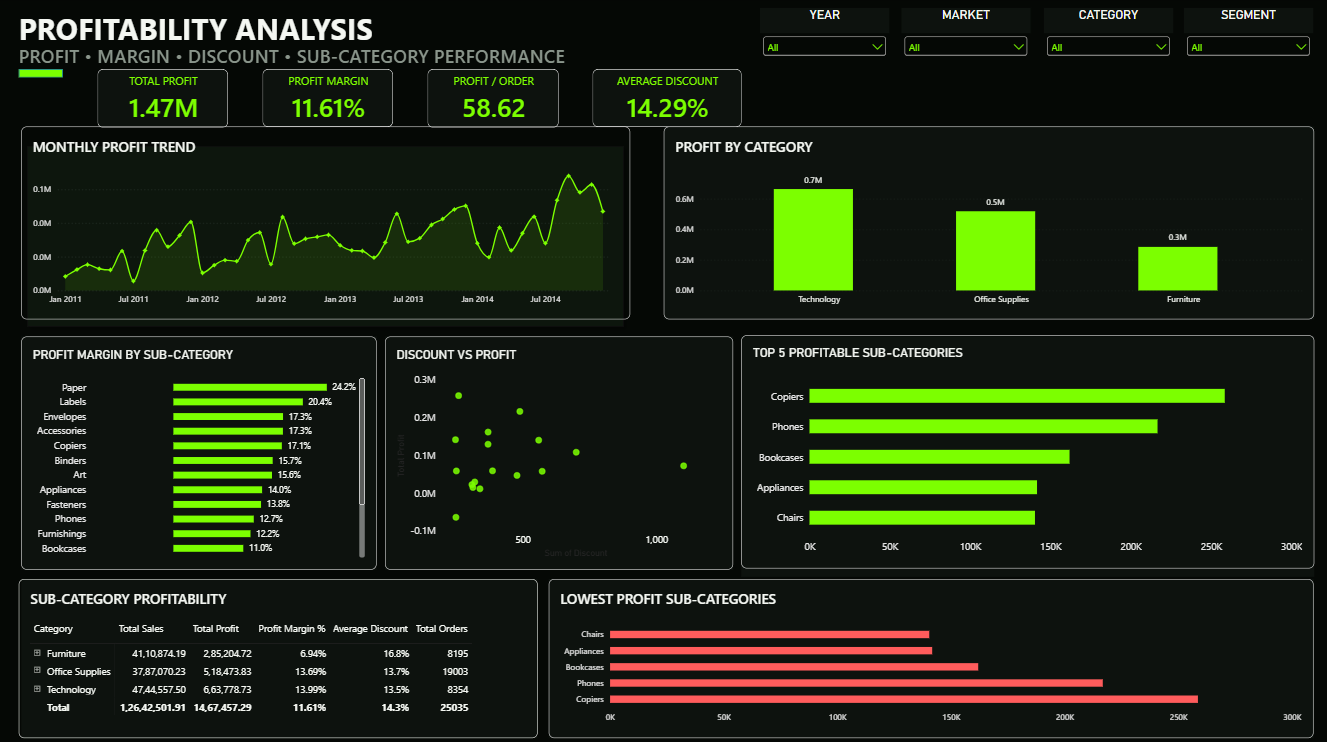

The dashboard page shown, as its layout file describes it:
{"tool":"powerbi","page":{"name":"03 Profitability","canvas":[1920,1080],"ordinal":2},"visuals":[{"type":"shape","box":[794.5,839.8,1107.4,230.5],"z":0},{"type":"shape","box":[1072.4,487.8,829.5,347.9],"z":1000},{"type":"shape","box":[557.8,487.8,504.3,337.6],"z":2000},{"type":"textbox","box":[26.8,63.8,1130,49.4],"z":4000},{"type":"shape","box":[26.8,100.9,63.8,12.3],"z":5000},{"type":"slicer","title":"YEAR","fields":{"Values":["DateTable.Year"]},"box":[1100,12.5,187.5,145.8],"z":6000},{"type":"slicer","title":"MARKET","fields":{"Values":["Orders.Market"]},"box":[1304.2,12.5,187.5,145.8],"z":7000},{"type":"cardVisual","fields":{"Data":["_Measures.Total Profit"]},"box":[140.3,100.9,189.6,85.4],"z":8000},{"type":"cardVisual","fields":{"Data":["_Measures.Profit Margin %"]},"box":[379.6,100.9,189.4,84.4],"z":9000},{"type":"cardVisual","fields":{"Data":["_Measures.Profit per Order"]},"box":[618.6,100.9,190,85],"z":10000},{"type":"shape","box":[960.4,185.4,941.7,279.2],"z":12000},{"type":"scatterChart","title":"DISCOUNT VS PROFIT","fields":{"X":["Sum(Orders.Discount)"],"Y":["_Measures.Total Profit"],"Category":["Orders.Sub-Category"]},"box":[557.8,487.8,504.3,337.6],"z":13000},{"type":"clusteredColumnChart","title":"PROFIT BY CATEGORY","fields":{"Category":["Orders.Category"],"Y":["_Measures.Total Profit"]},"box":[960.4,185.4,941.7,279.2],"z":14000},{"type":"shape","box":[30.9,487.8,514.6,337.6],"z":16000},{"type":"clusteredBarChart","title":"PROFIT MARGIN BY SUB-CATEGORY","fields":{"Category":["Orders.Sub-Category"],"Y":["_Measures.Profit Margin %"]},"box":[30.9,487.8,514.6,337.6],"z":17000},{"type":"cardVisual","fields":{"Data":["_Measures.Average Discount"]},"box":[858.3,100.9,216.1,84.4],"z":18000},{"type":"slicer","title":"CATEGORY","fields":{"Values":["Orders.Category"]},"box":[1510.4,12.5,187.5,145.8],"z":19000},{"type":"slicer","title":"SEGMENT","fields":{"Values":["Orders.Segment"]},"box":[1714.6,12.5,187.5,145.8],"z":20000},{"type":"clusteredBarChart","title":"TOP 5 PROFITABLE SUB-CATEGORIES","fields":{"Category":["Orders.Sub-Category"],"Y":["_Measures.Total Profit"]},"box":[1072.9,487.5,829.5,337.6],"z":21000},{"type":"shape","box":[31.2,204.2,881.2,279.2],"z":23000},{"type":"lineChart","title":"MONTHLY PROFIT TREND","fields":{"Category":["DateTable.Month Start_1"],"Y":["_Measures.Total Profit"]},"box":[31.2,185.4,881.2,279.2],"z":24000},{"type":"clusteredBarChart","title":"LOWEST PROFIT SUB-CATEGORIES","fields":{"Category":["Orders.Sub-Category"],"Y":["_Measures.Total Profit"]},"box":[794.5,839.8,1107.4,230.5],"z":25000},{"type":"shape","box":[30.9,839.8,747.2,230.5],"z":26000},{"type":"pivotTable","title":"SUB-CATEGORY PROFITABILITY","fields":{"Rows":["Orders.Category","Orders.Sub-Category"],"Values":["_Measures.Total Sales","_Measures.Total Profit","_Measures.Profit Margin %","_Measures.Average Discount","_Measures.Total Orders"]},"box":[26.8,839.8,751.3,230.5],"z":27000},{"type":"textbox","box":[27.1,12.5,752.1,87.5],"z":28000}]}

Visuals, with their boxes in screenshot pixels (x1, y1, x2, y2), scaled from the page's 1920x1080 canvas onto the 1327x742 screenshot:
shape: x1=549 y1=577 x2=1314 y2=735
shape: x1=741 y1=335 x2=1314 y2=574
shape: x1=386 y1=335 x2=734 y2=567
textbox: x1=19 y1=44 x2=800 y2=78
shape: x1=19 y1=69 x2=63 y2=78
"YEAR" slicer: x1=760 y1=9 x2=890 y2=109
"MARKET" slicer: x1=901 y1=9 x2=1031 y2=109
cardVisual - _Measures.Total Profit: x1=97 y1=69 x2=228 y2=128
cardVisual - _Measures.Profit Margin %: x1=262 y1=69 x2=393 y2=127
cardVisual - _Measures.Profit per Order: x1=428 y1=69 x2=559 y2=128
shape: x1=664 y1=127 x2=1315 y2=319
"DISCOUNT VS PROFIT" scatterChart: x1=386 y1=335 x2=734 y2=567
"PROFIT BY CATEGORY" clusteredColumnChart: x1=664 y1=127 x2=1315 y2=319
shape: x1=21 y1=335 x2=377 y2=567
"PROFIT MARGIN BY SUB-CATEGORY" clusteredBarChart: x1=21 y1=335 x2=377 y2=567
cardVisual - _Measures.Average Discount: x1=593 y1=69 x2=743 y2=127
"CATEGORY" slicer: x1=1044 y1=9 x2=1173 y2=109
"SEGMENT" slicer: x1=1185 y1=9 x2=1315 y2=109
"TOP 5 PROFITABLE SUB-CATEGORIES" clusteredBarChart: x1=742 y1=335 x2=1315 y2=567
shape: x1=22 y1=140 x2=631 y2=332
"MONTHLY PROFIT TREND" lineChart: x1=22 y1=127 x2=631 y2=319
"LOWEST PROFIT SUB-CATEGORIES" clusteredBarChart: x1=549 y1=577 x2=1314 y2=735
shape: x1=21 y1=577 x2=538 y2=735
"SUB-CATEGORY PROFITABILITY" pivotTable: x1=19 y1=577 x2=538 y2=735
textbox: x1=19 y1=9 x2=539 y2=69
